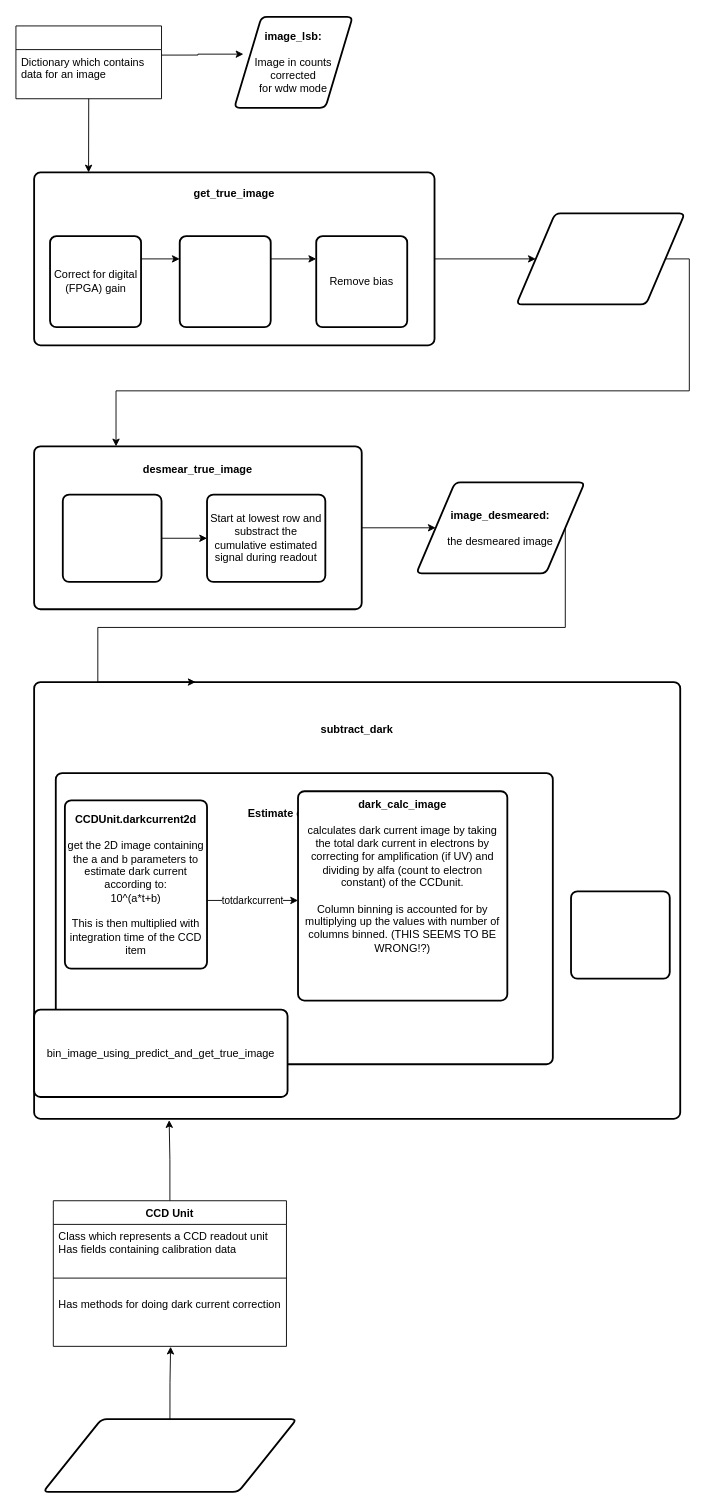
The diagram is 713 pixels wide and 1508 high, and some of its shapes have lost their labels. Each missing label, with the box of its shape:
Calculate time it takes to read out one row: (61, 493, 162, 582)
Calibration file FM0_XXX_CCD_DC_calibration.mat: (42, 1418, 297, 1492)
CCDitem: (15, 25, 162, 99)
Compansate for bad columns: (178, 235, 271, 328)
image_bias_sub: Image corrected for fpga gain and bad columns: (515, 212, 685, 305)
Subtract dark current: (570, 890, 670, 979)
